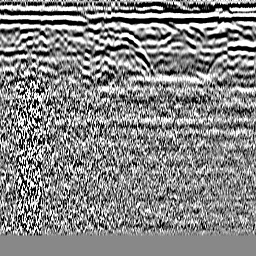cavity: (111, 31, 140, 49)
